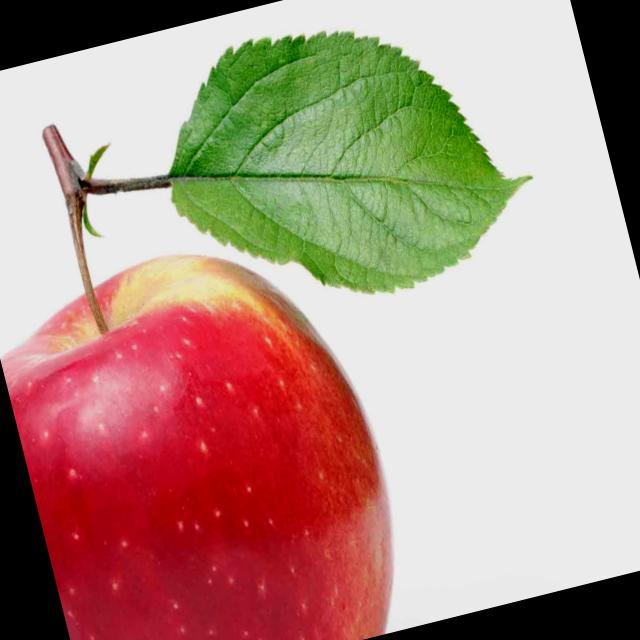apple: (0, 218, 423, 640)
